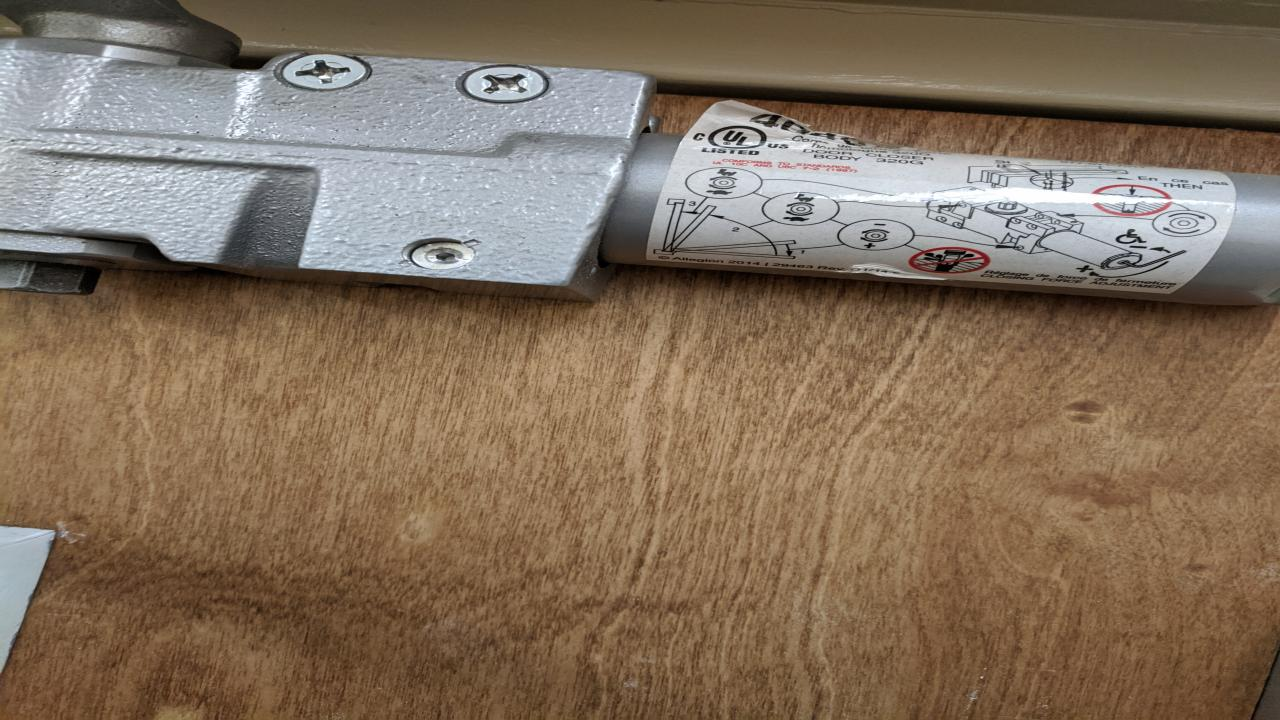CRS: (272, 52, 378, 90), (458, 65, 551, 102)
